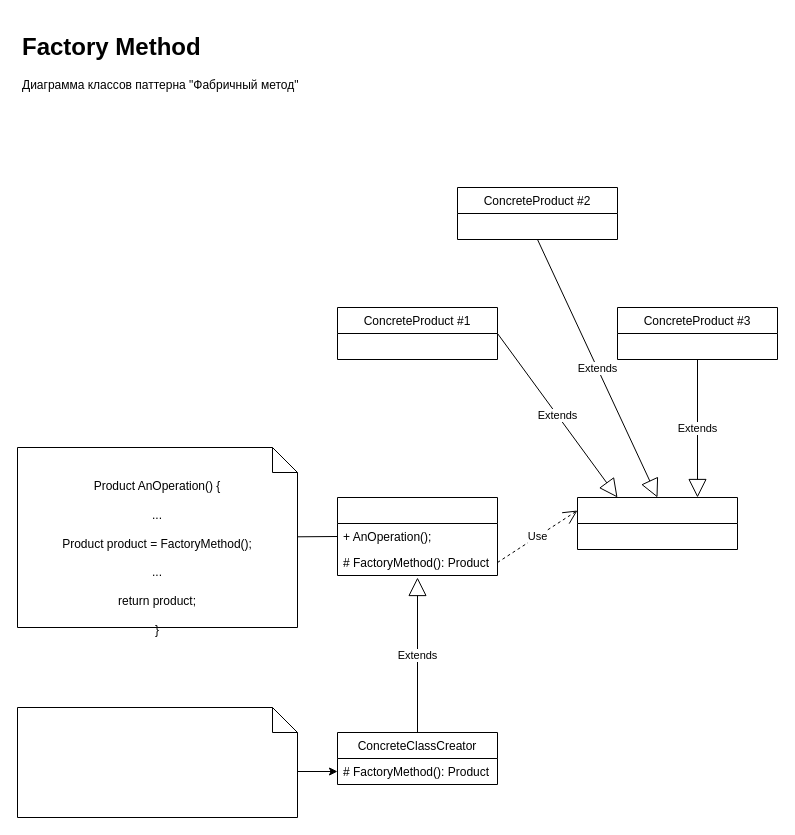
Image size: 795x835. Some labels were removed from this diagram. Here are the shapes that lost their labels. From the top down, the box of each, then its label:
(336, 496, 498, 576): AbstractClassCreator
(576, 496, 738, 550): Product
(16, 706, 298, 818): return ConcreteProduct();
